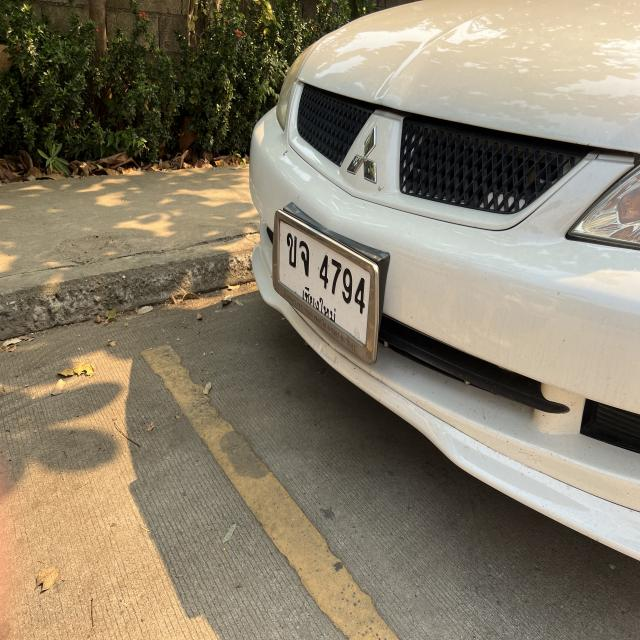license_plate: (269, 207, 380, 365)
